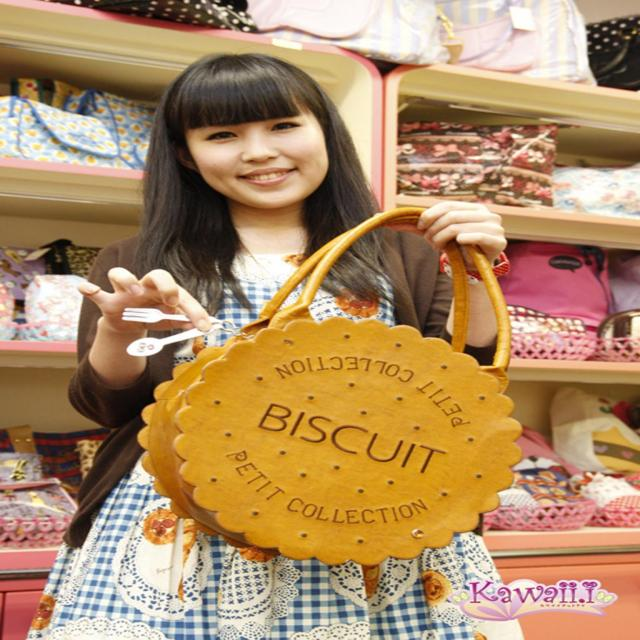nomask: (188, 86, 323, 208)
